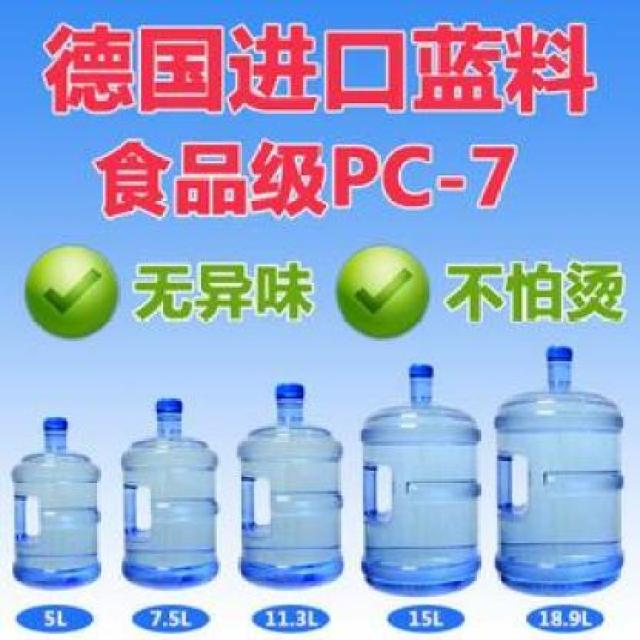coolerbottle: (486, 337, 634, 600), (352, 360, 486, 602), (232, 371, 350, 591), (118, 391, 227, 591), (6, 412, 106, 601)
